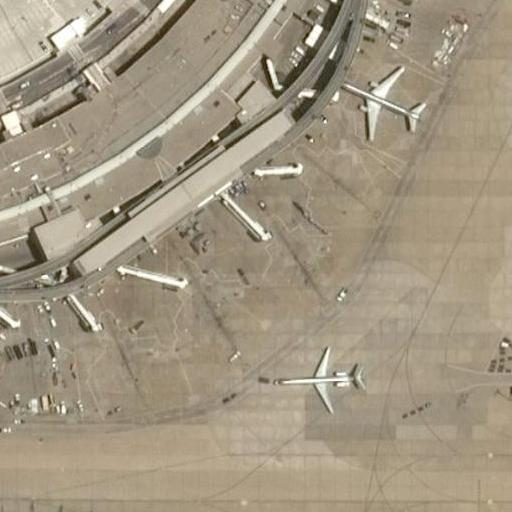Aircraft: (336, 56, 436, 144), (273, 338, 371, 418)
